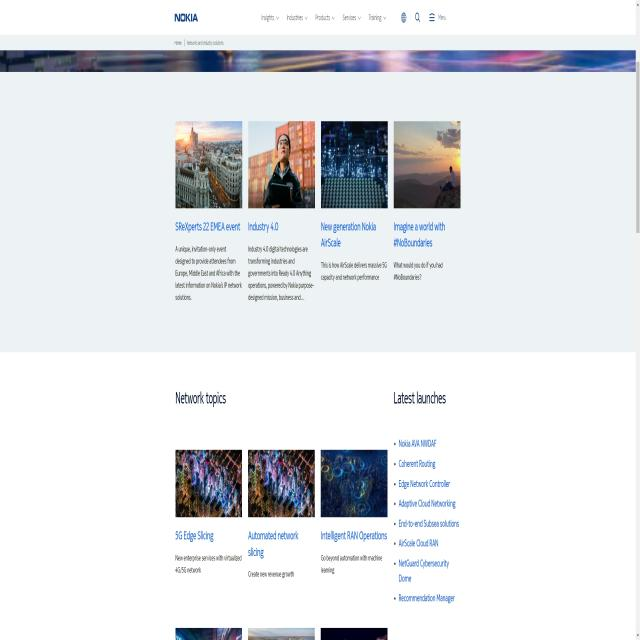menu-bar: (397, 6, 451, 34)
tab-bar: (256, 8, 392, 32)
